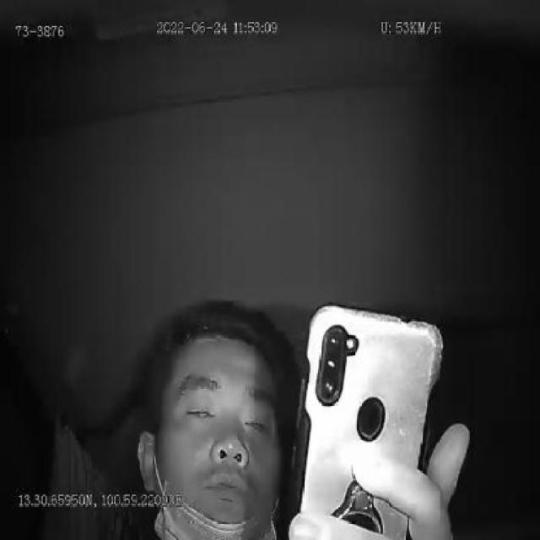phone: (288, 302, 442, 540)
